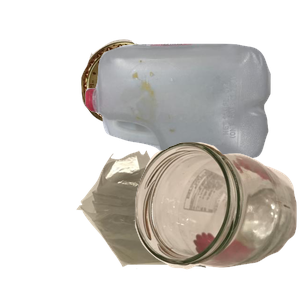glass: (132, 139, 300, 300)
metal: (78, 37, 243, 163)
plastic: (83, 41, 300, 194)
trash: (74, 148, 273, 300)
